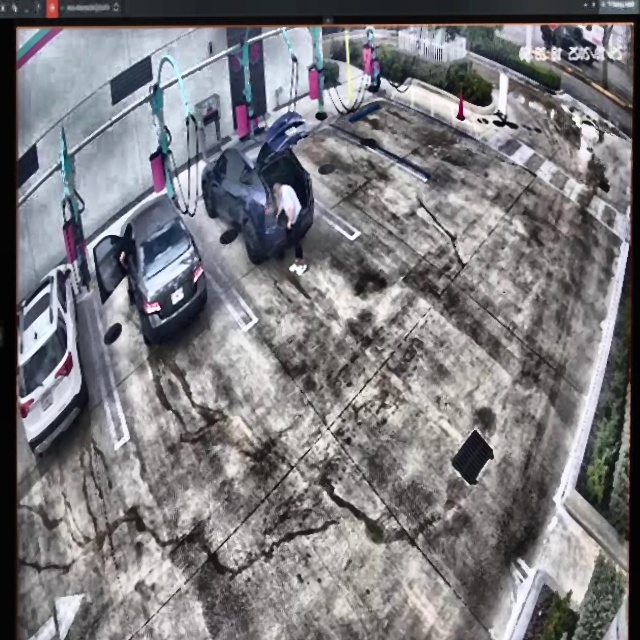Car: (202, 111, 313, 268), (95, 196, 208, 336)
